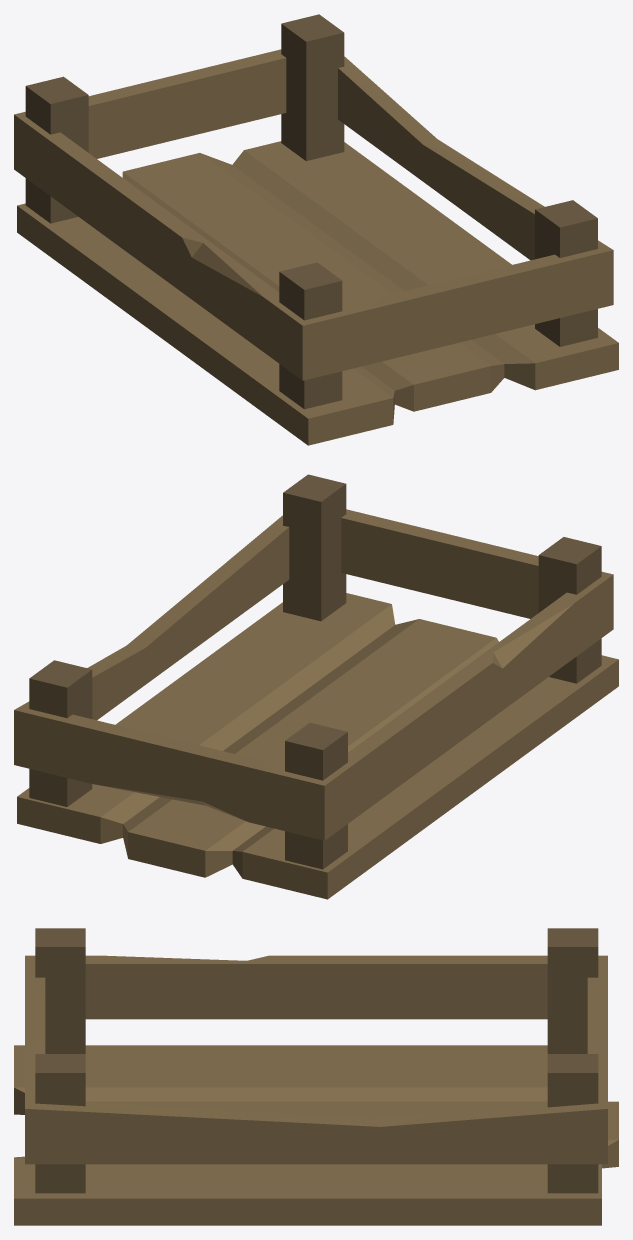
File: SM_Item_Crate_01.002.obj
The picture shows the model from 3 angles, top to bottom: view 1: azimuth 30°, elevation 25°; view 2: azimuth 150°, elevation 25°; view 3: azimuth 270°, elevation 25°; orthographic projection.
Parts seen in each view (by area): view 1: SM_Item_Crate_01.002_0; view 2: SM_Item_Crate_01.002_0; view 3: SM_Item_Crate_01.002_0.
Part boxes in pixels (x1=…): SM_Item_Crate_01.002_0: x1=14, y1=14, x2=618, y2=445; SM_Item_Crate_01.002_0: x1=14, y1=474, x2=618, y2=899; SM_Item_Crate_01.002_0: x1=14, y1=928, x2=618, y2=1225.
Bounding box in the file's own units: 0.4526 × 0.2037 × 0.7557.
Materials: 1 (1 with a texture image).
